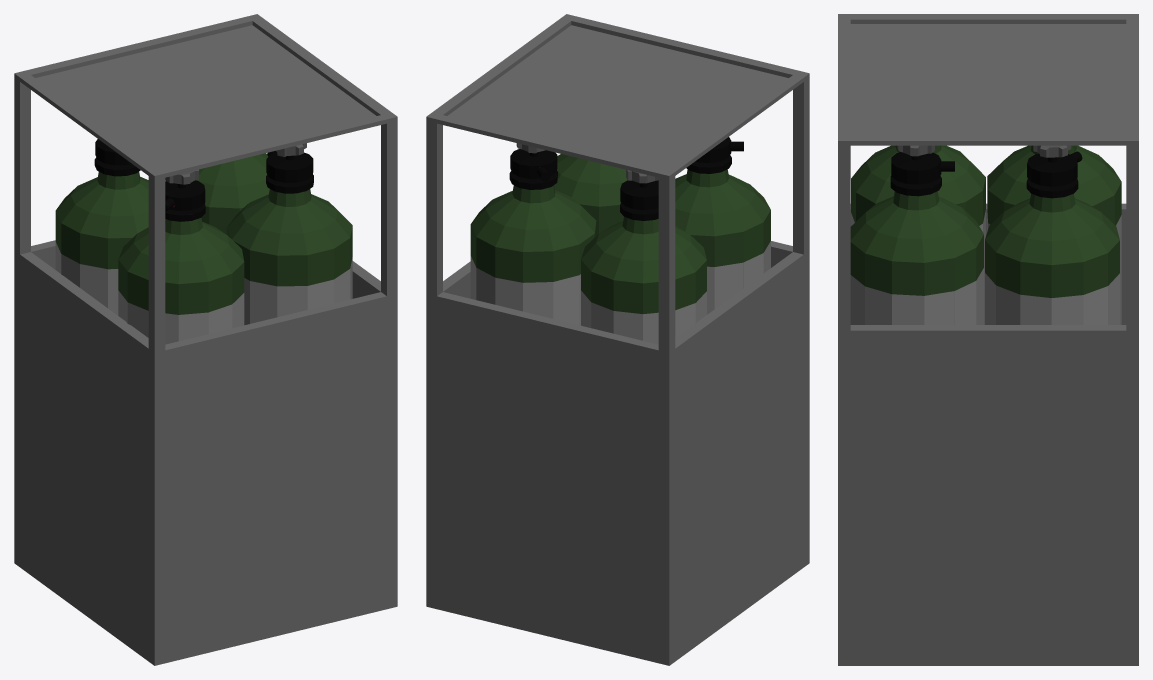
The model's file is OXBOX1.fbx.
3 renders of one model, left to right at view 1: azimuth 30°, elevation 25°; view 2: azimuth 150°, elevation 25°; view 3: azimuth 270°, elevation 25°, orthographic. The views are drawn at different scales.
Visible parts, largest first — view 1: Cube, Cylinder.008, Cylinder.011, Cylinder.005, Cylinder.002, Cylinder.006, Cylinder.009, Cylinder.003; view 2: Cube, Cylinder.002, Cylinder.005, Cylinder.011, Cylinder.008, Cylinder.001, Cylinder.003, Cylinder.009; view 3: Cube, Cylinder.008, Cylinder.002, Cylinder.005, Cylinder.011, Cylinder.006, Cylinder.001.
Boxes of the visible parts, x1,y1,x2,y2 form: Cube: (14, 14, 397, 665); Cylinder.008: (226, 189, 352, 325); Cylinder.011: (118, 218, 244, 344); Cylinder.005: (55, 172, 148, 315); Cylinder.002: (196, 153, 269, 234); Cylinder.006: (266, 151, 313, 193); Cylinder.009: (165, 180, 205, 221); Cylinder.003: (94, 139, 140, 176); Cube: (426, 14, 809, 665); Cylinder.002: (470, 185, 596, 325); Cylinder.005: (581, 216, 706, 344); Cylinder.011: (675, 169, 770, 314); Cylinder.008: (554, 154, 627, 235); Cylinder.001: (509, 149, 557, 189); Cylinder.003: (620, 180, 658, 220); Cylinder.009: (686, 137, 743, 173); Cube: (838, 14, 1138, 665); Cylinder.008: (850, 191, 983, 324); Cylinder.002: (985, 193, 1119, 324); Cylinder.005: (987, 145, 1121, 324); Cylinder.011: (851, 145, 985, 324); Cylinder.006: (890, 152, 954, 196); Cylinder.001: (1026, 151, 1082, 198).
Bounding box in the file's own units: 67.57 × 130 × 67.57.
3 materials, 1 textured.
